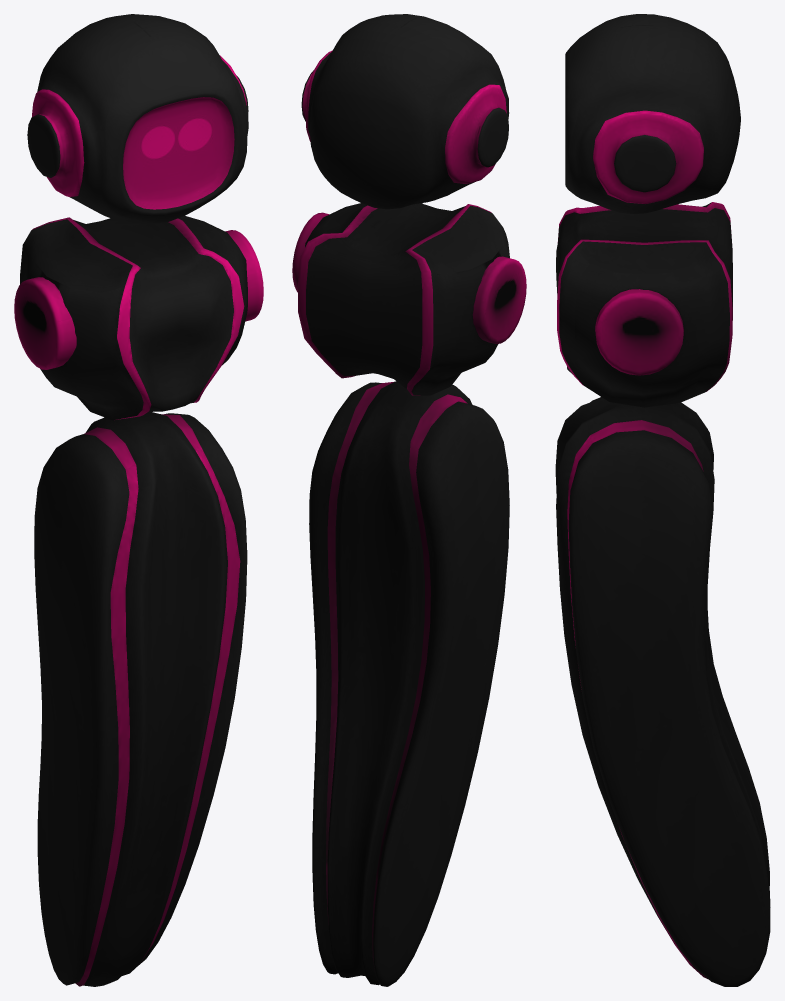
File: pod-classic_nicole.obj
3 renders of one model, left to right at view 1: azimuth 30°, elevation 25°; view 2: azimuth 150°, elevation 25°; view 3: azimuth 270°, elevation 25°, orthographic. The views are drawn at different scales.
Parts seen in each view (by area): view 1: SURF-primary, SURF-secondary; view 2: SURF-primary, SURF-secondary; view 3: SURF-primary, SURF-secondary.
Part boxes in pixels (<box>): SURF-primary: <box>20,14,248,986</box>; SURF-secondary: <box>14,55,263,986</box>; SURF-primary: <box>301,14,509,986</box>; SURF-secondary: <box>292,50,526,971</box>; SURF-primary: <box>555,14,770,986</box>; SURF-secondary: <box>557,110,732,978</box>.
Size of the model in its own units: 0.3429 by 1.57 by 0.3208.
